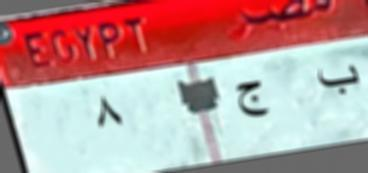8: (88, 90, 127, 132)
baa: (312, 58, 362, 102)
jeem: (227, 73, 273, 120)
